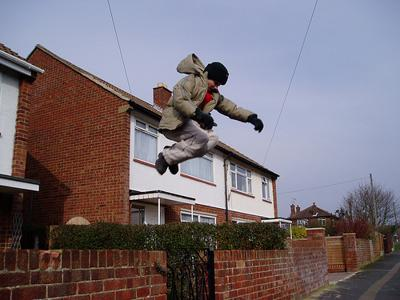person: (152, 61, 268, 176)
